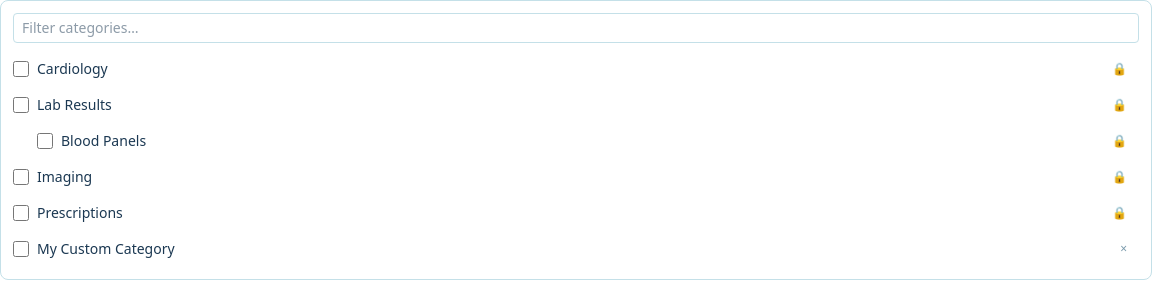
Test case: CategoryPicker › filters categories by search query
Type "card" into the search field labelled "Filter categories…" at (576, 28), box [13,13,1139,43]
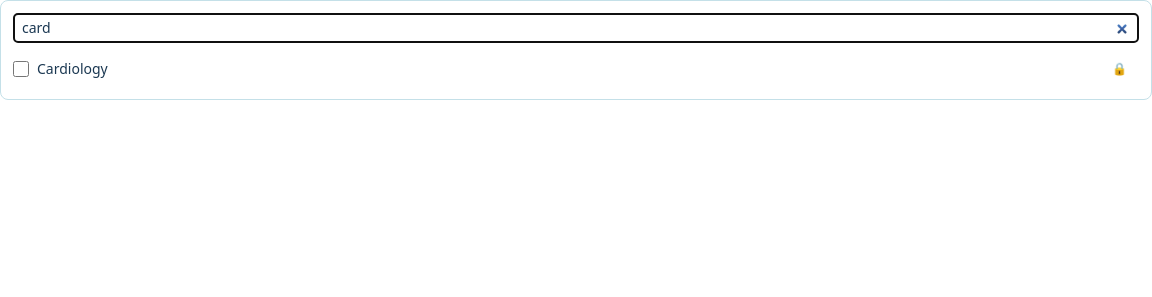
Expected: the checkbox labelled "Cardiology 🔒" is shown, [13,59,1127,78]
Now the checkbox labelled "Lab Results" is gone
Now the checkbox labelled "Imaging" is gone
